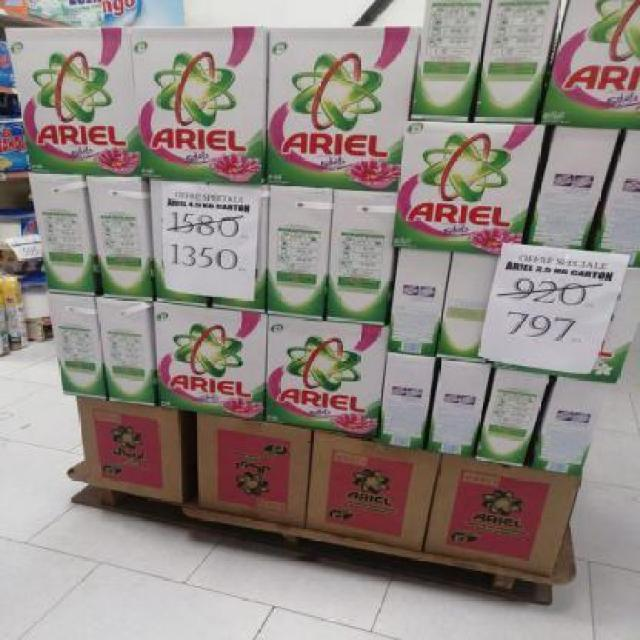Detergent: (262, 23, 402, 195), (127, 24, 265, 184), (392, 121, 546, 243), (13, 25, 142, 169), (147, 303, 267, 412), (265, 315, 381, 427)
